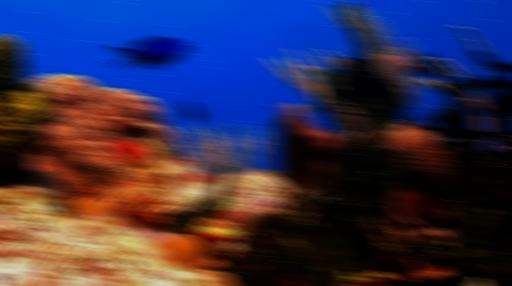Fish: (333, 57, 408, 123), (104, 36, 189, 69), (182, 101, 203, 121), (306, 102, 323, 110)
